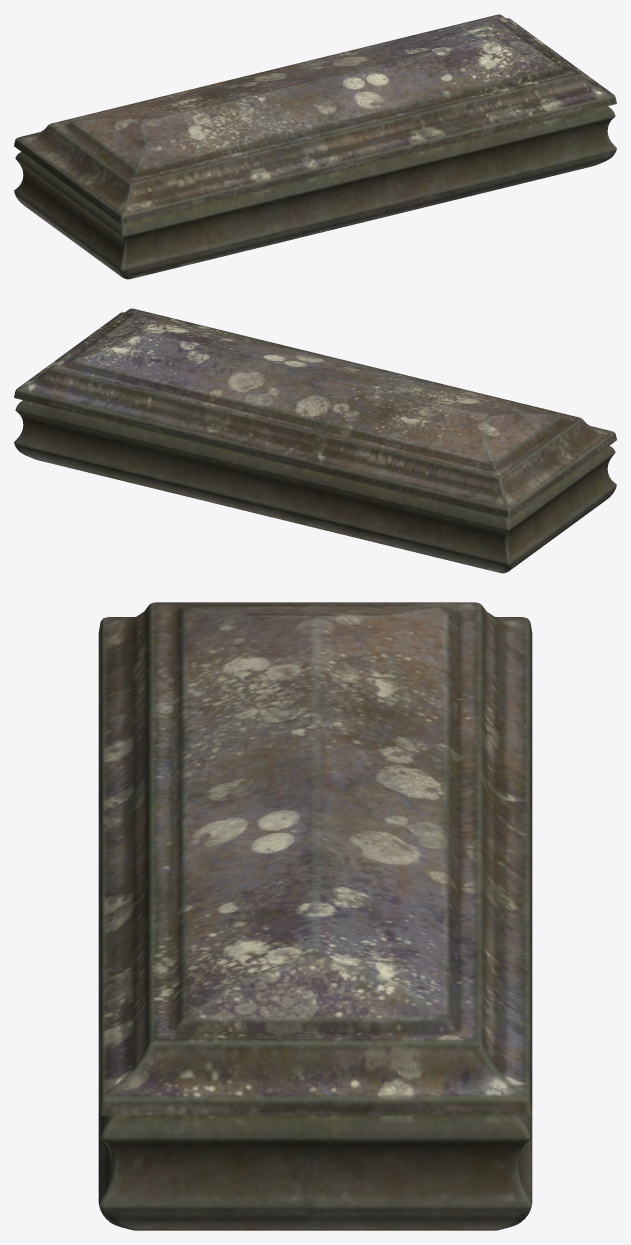
The model's file is SM_TombsE.fbx.
The picture shows the model from 3 angles, top to bottom: view 1: azimuth 30°, elevation 25°; view 2: azimuth 150°, elevation 25°; view 3: azimuth 270°, elevation 25°; orthographic projection. The views are drawn at different scales.
Parts seen in each view (by area): view 1: SM_TombsE_LOD0; view 2: SM_TombsE_LOD0; view 3: SM_TombsE_LOD0.
Boxes of the visible parts, left/top/right/bottom form: SM_TombsE_LOD0: left=14, top=14, right=616, bottom=279; SM_TombsE_LOD0: left=14, top=308, right=616, bottom=573; SM_TombsE_LOD0: left=98, top=602, right=532, bottom=1230.
Size of the model in its own units: 198 by 75 by 41.18.
1 material, 1 textured.
